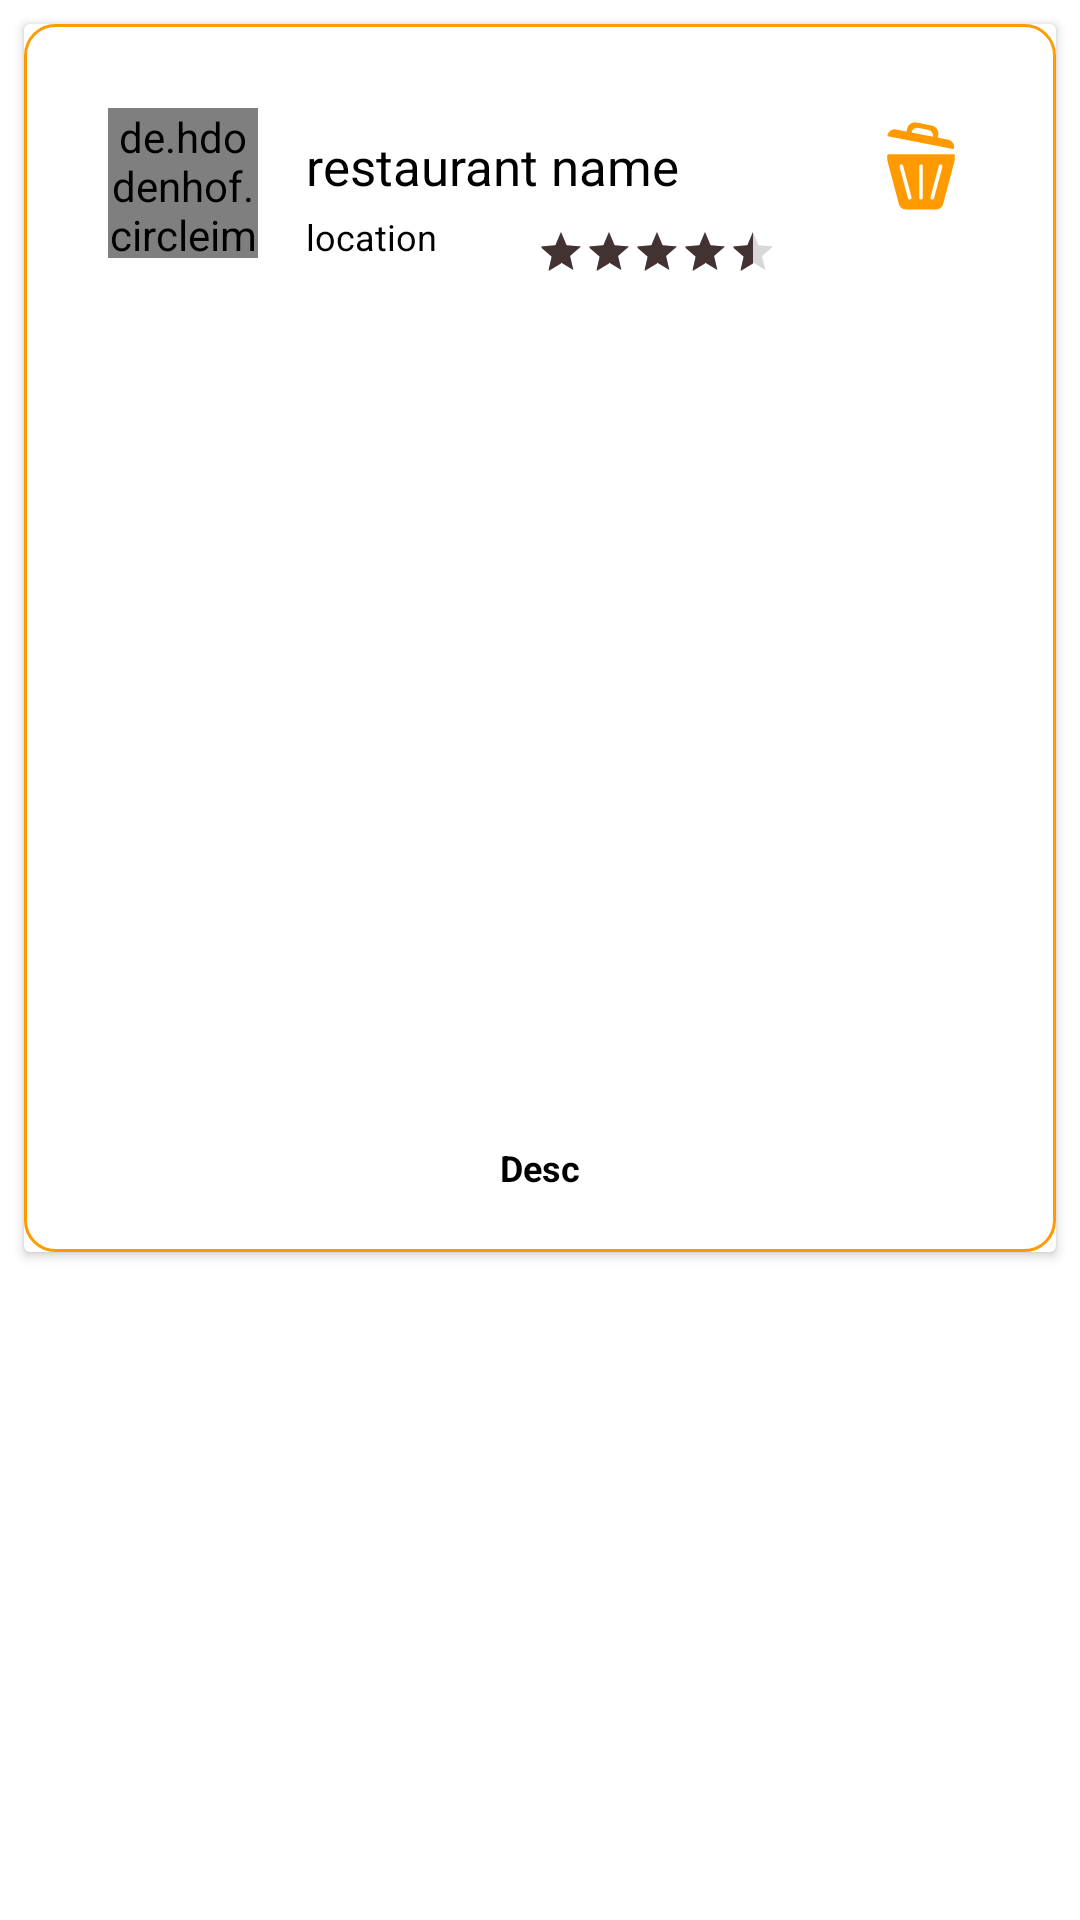

Icon click points for this 1080x1920 phone screenshot, format [x,y]:
delete: [921,166]
